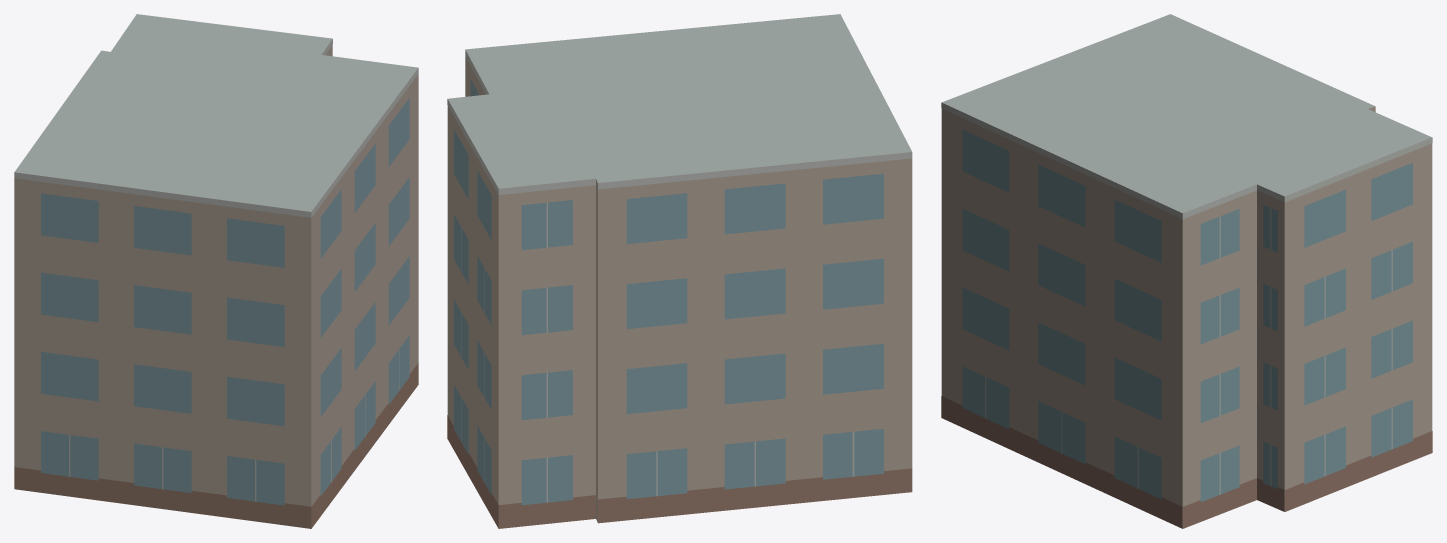
The model's file is survey-upis-33000782.glb.
3 renders of one model, left to right at view 1: azimuth 30°, elevation 25°; view 2: azimuth 150°, elevation 25°; view 3: azimuth 270°, elevation 25°, orthographic. The views are drawn at different scales.
Parts seen in each view (by area): view 1: survey-upis-33000782.tmp; view 2: survey-upis-33000782.tmp; view 3: survey-upis-33000782.tmp.
Part boxes in pixels (x1=…): survey-upis-33000782.tmp: x1=14, y1=14, x2=418, y2=528; survey-upis-33000782.tmp: x1=447, y1=14, x2=912, y2=528; survey-upis-33000782.tmp: x1=941, y1=14, x2=1432, y2=528.
Bounding box in the file's own units: 17.63 × 13 × 18.34.
